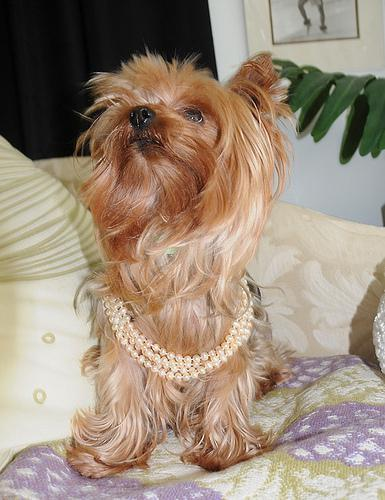dog-yorkshire_terrier: (108, 50, 271, 180)
